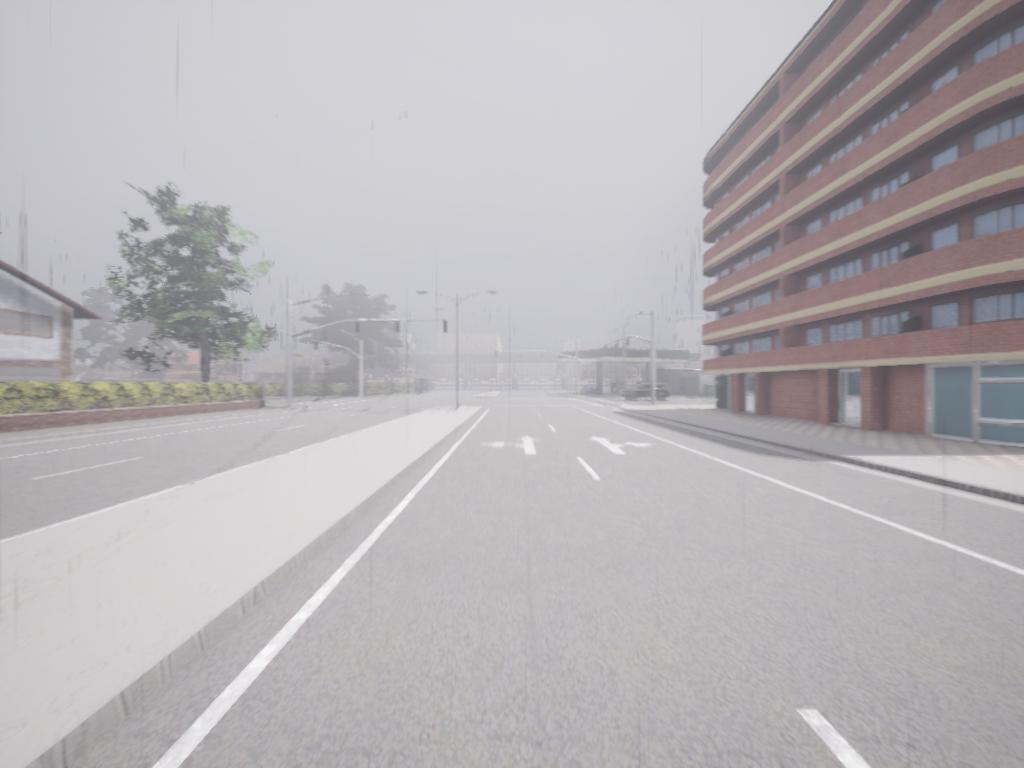traffic_light: (443, 320, 451, 336), (356, 321, 363, 336), (396, 321, 401, 337), (626, 338, 631, 349)
